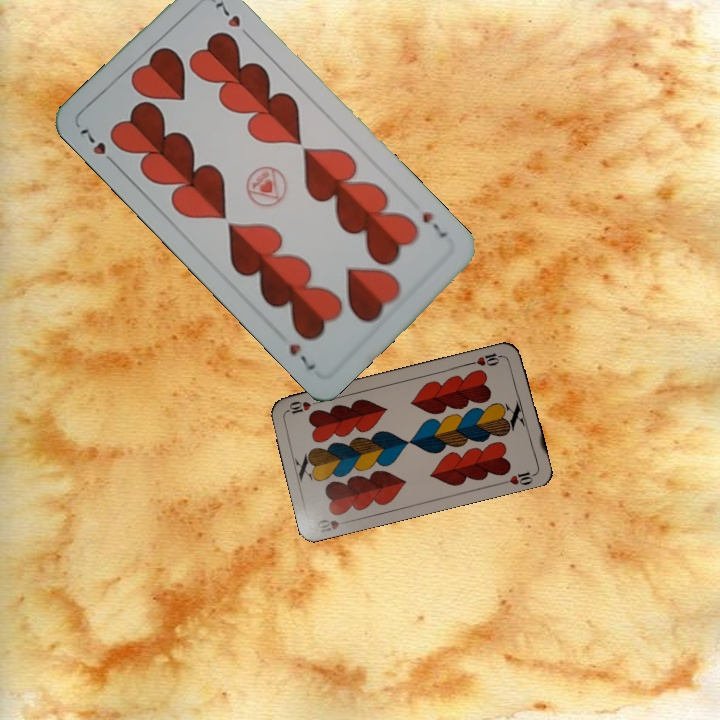H10: (313, 515, 354, 536), (467, 349, 507, 368)
H7: (75, 122, 120, 170), (418, 208, 450, 241)
